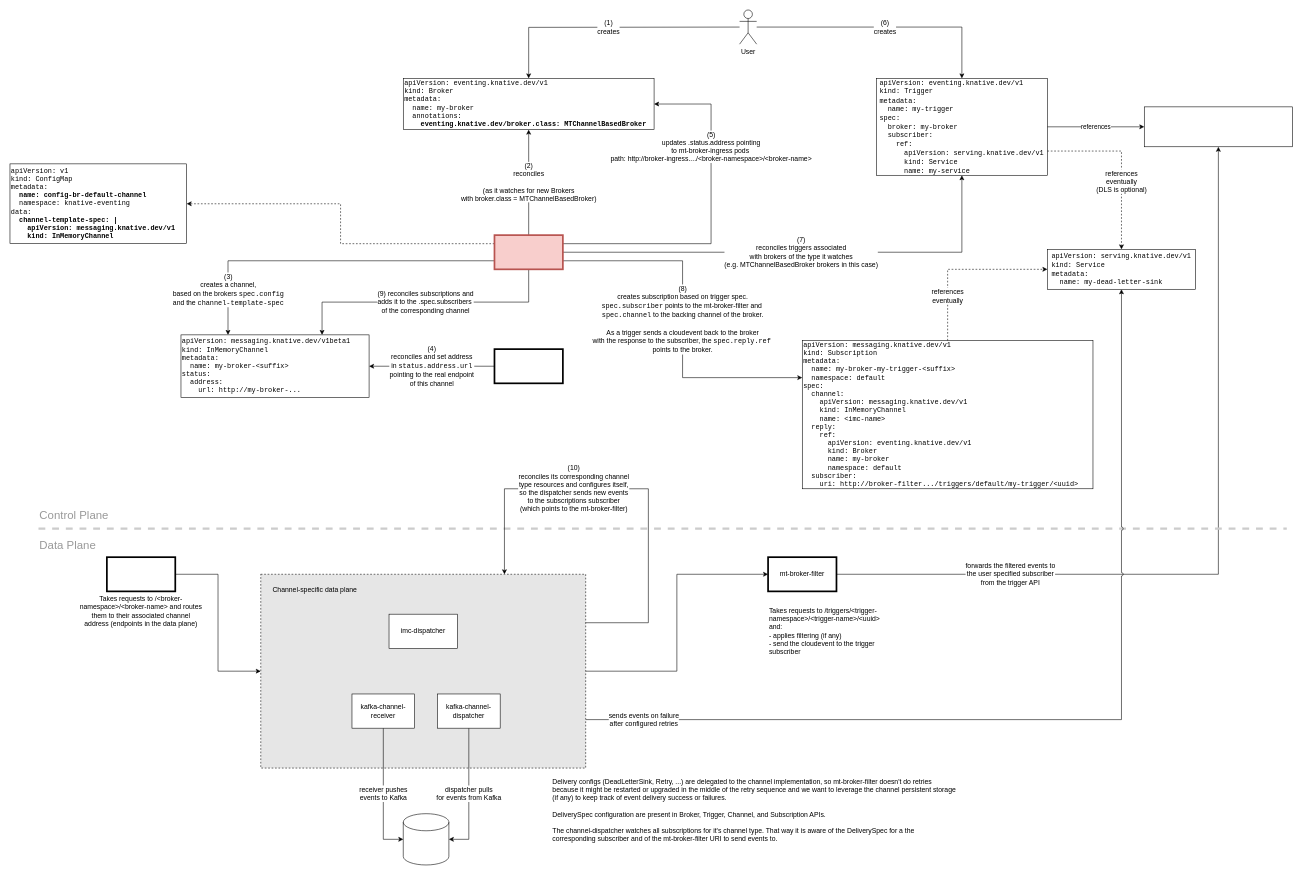
Image size: 1302x892. Some labels were removed from this diagram. The box of each missing label's shape, as (x1, y1, x2, y2) in pixels:
apiVersion : serving.knative.dev/v1 kind : Service metadata : name : my-service: (1144, 106, 1292, 147)
imc-controller: (493, 348, 563, 384)
Kafka Cluster: (403, 813, 449, 865)
mt-broker-controller: (493, 234, 563, 270)
mt-broker-ingress: (106, 556, 176, 592)
